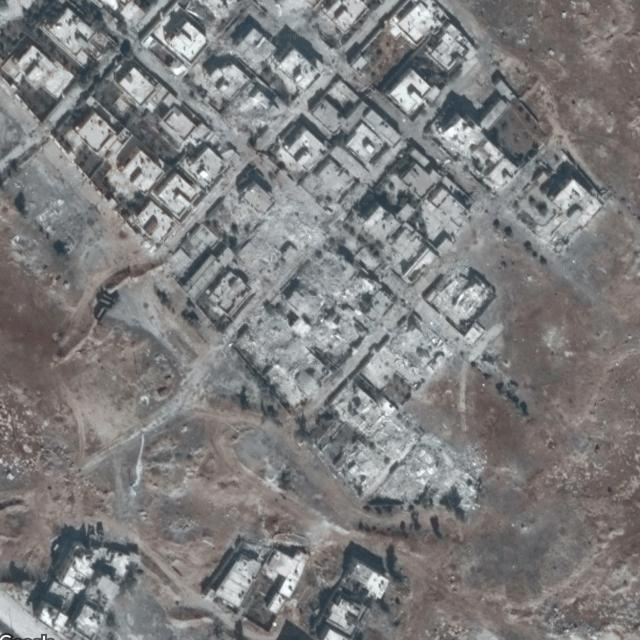damaged_building: (207, 197, 496, 515), (218, 76, 296, 150)
